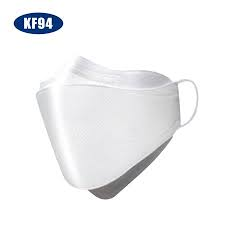mask: (40, 81, 170, 175)
